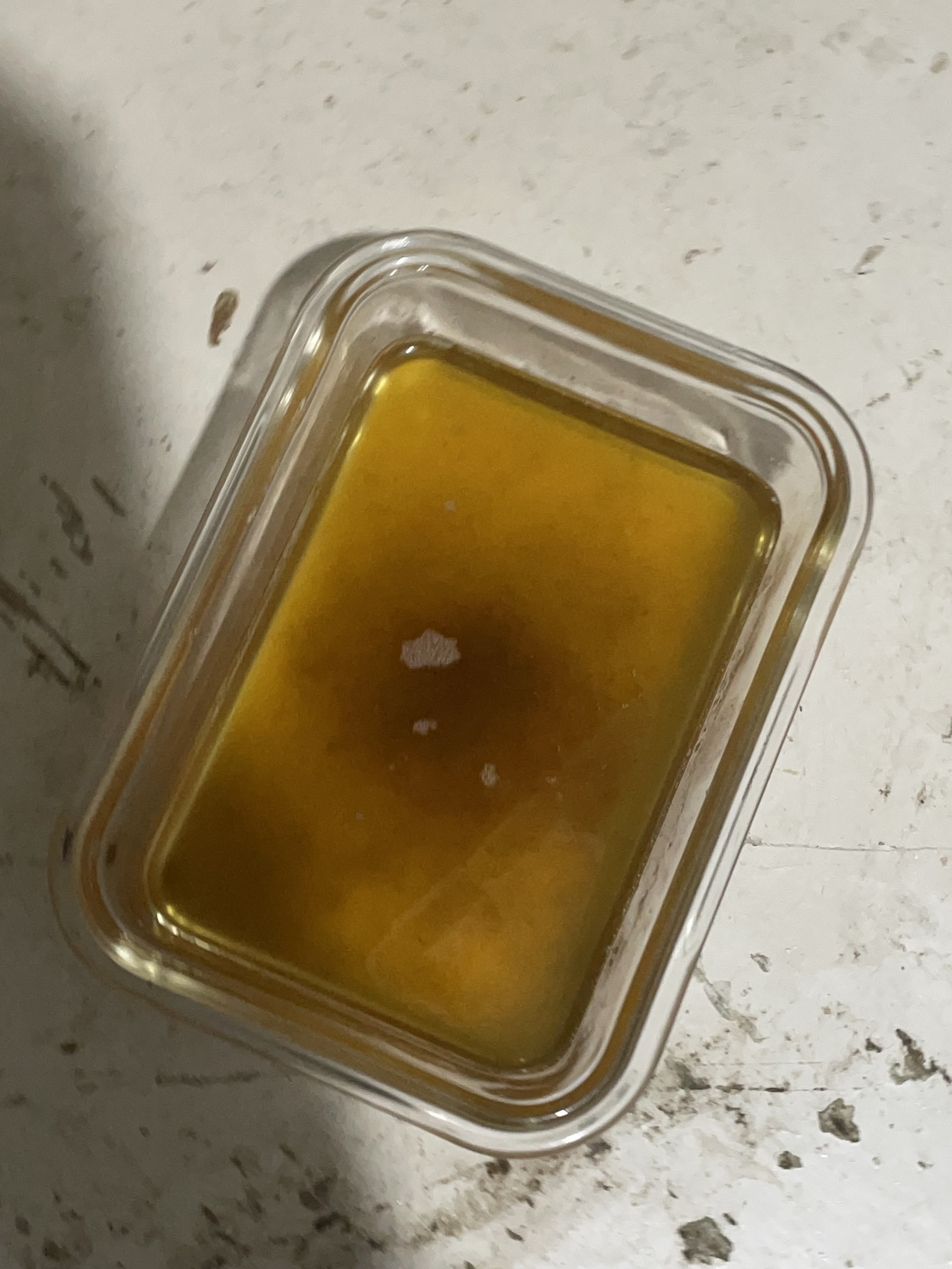reusable: (129, 334, 768, 1070)
